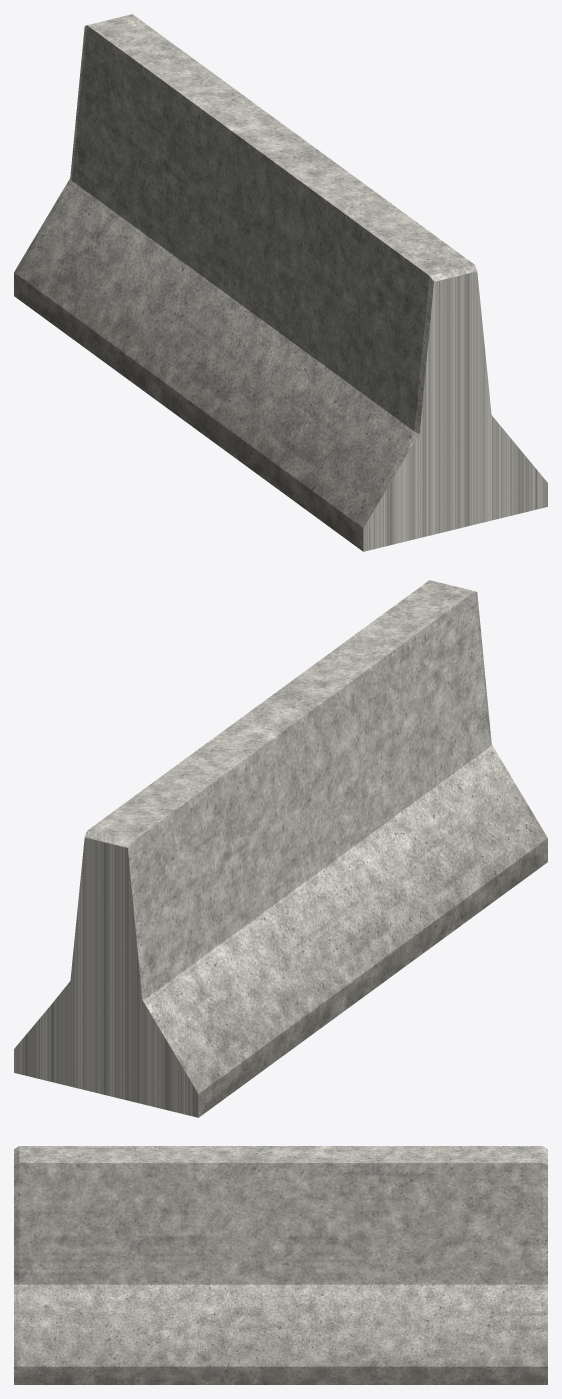
File: SM_Morin_NewJersey.fbx
3 views of the same model, one above another, from view 1: azimuth 30°, elevation 25°; view 2: azimuth 150°, elevation 25°; view 3: azimuth 270°, elevation 25° (orthographic). The views are drawn at different scales.
Parts seen in each view (by area): view 1: SM_Morin_NewJersey; view 2: SM_Morin_NewJersey; view 3: SM_Morin_NewJersey.
Boxes of the visible parts, left/top/right/bottom form: SM_Morin_NewJersey: left=14, top=14, right=547, bottom=551; SM_Morin_NewJersey: left=14, top=580, right=547, bottom=1117; SM_Morin_NewJersey: left=14, top=1146, right=547, bottom=1384.
Size of what is drawn, in the model's own units: 61 by 200 by 81.
1 material, 1 textured.
